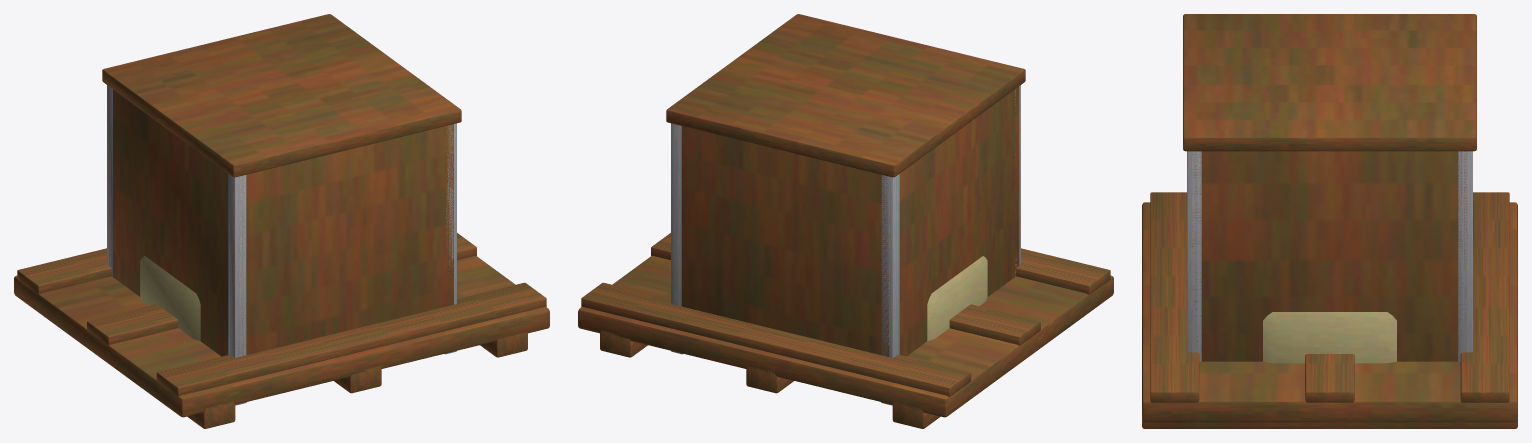
The model's file is props.glb.
The picture shows the model from 3 angles, left to right: view 1: azimuth 30°, elevation 25°; view 2: azimuth 150°, elevation 25°; view 3: azimuth 270°, elevation 25°; orthographic projection. The views are drawn at different scales.
Visible parts, largest first — view 1: CrateBody, CrateLid, PalletDeck, PalletSlat0, CrateBand-1-1, BagBody, PalletSlat1, PalletSlat2, CrateBand1-1, CrateBand-11, PalletBeam0, PalletBeam1 (+1 smaller); view 2: CrateBody, CrateLid, PalletDeck, PalletSlat2, CrateBand-11, BagBody, PalletSlat1, PalletSlat0, CrateBand11, PalletBeam1, PalletBeam0, PalletBeam2; view 3: CrateBody, CrateLid, PalletDeck, PalletSlat0, PalletSlat2, BagBody, CrateBand1-1, CrateBand11, PalletBeam2, PalletSlat1.
Boxes of the visible parts, box(x1,y1,x2,y2) form: CrateBody: box(110, 89, 453, 356); CrateLid: box(102, 14, 461, 177); PalletDeck: box(14, 256, 549, 417); PalletSlat0: box(156, 282, 546, 396); CrateBand-1-1: box(228, 174, 246, 405); BagBody: box(140, 256, 200, 341); PalletSlat1: box(87, 233, 476, 345); PalletSlat2: box(17, 248, 111, 294); CrateBand1-1: box(444, 123, 456, 354); CrateBand-11: box(107, 85, 112, 276); PalletBeam0: box(187, 401, 235, 428); PalletBeam1: box(334, 366, 381, 393); CrateBody: box(681, 86, 1019, 356); CrateLid: box(666, 14, 1025, 177); PalletDeck: box(578, 256, 1113, 417); PalletSlat2: box(581, 282, 971, 396); CrateBand-11: box(881, 174, 899, 405); BagBody: box(927, 256, 987, 341); PalletSlat1: box(651, 233, 1040, 345); PalletSlat0: box(1016, 248, 1110, 294); CrateBand11: box(671, 123, 683, 354); PalletBeam1: box(746, 366, 793, 393); PalletBeam0: box(892, 401, 940, 428); PalletBeam2: box(600, 330, 647, 357); CrateBody: box(1192, 151, 1467, 361); CrateLid: box(1183, 14, 1476, 151); PalletDeck: box(1142, 202, 1517, 422); PalletSlat0: box(1150, 192, 1199, 402); PalletSlat2: box(1460, 192, 1509, 402); BagBody: box(1263, 312, 1396, 363); CrateBand1-1: box(1187, 151, 1201, 361); CrateBand11: box(1458, 151, 1472, 361); PalletBeam2: box(1142, 419, 1517, 428); PalletSlat1: box(1305, 354, 1354, 402).
Size of the model in its own units: 1.16 by 0.73 by 0.92.
4 materials, 4 textured.
